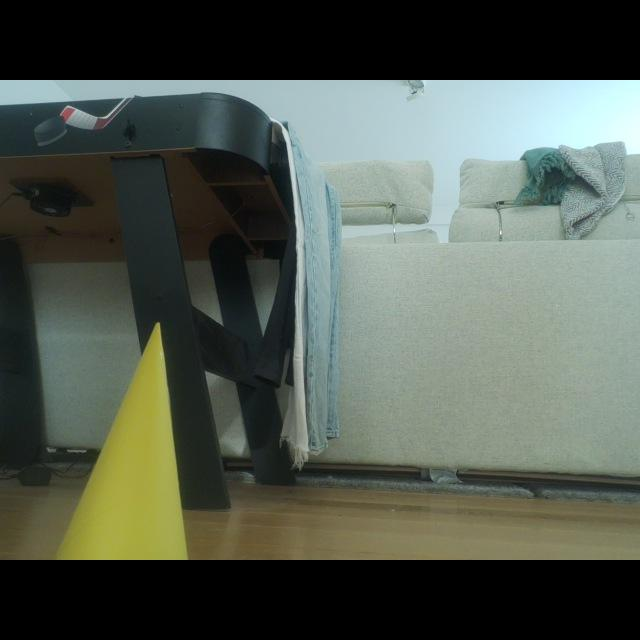bolya: (56, 325, 187, 559)
